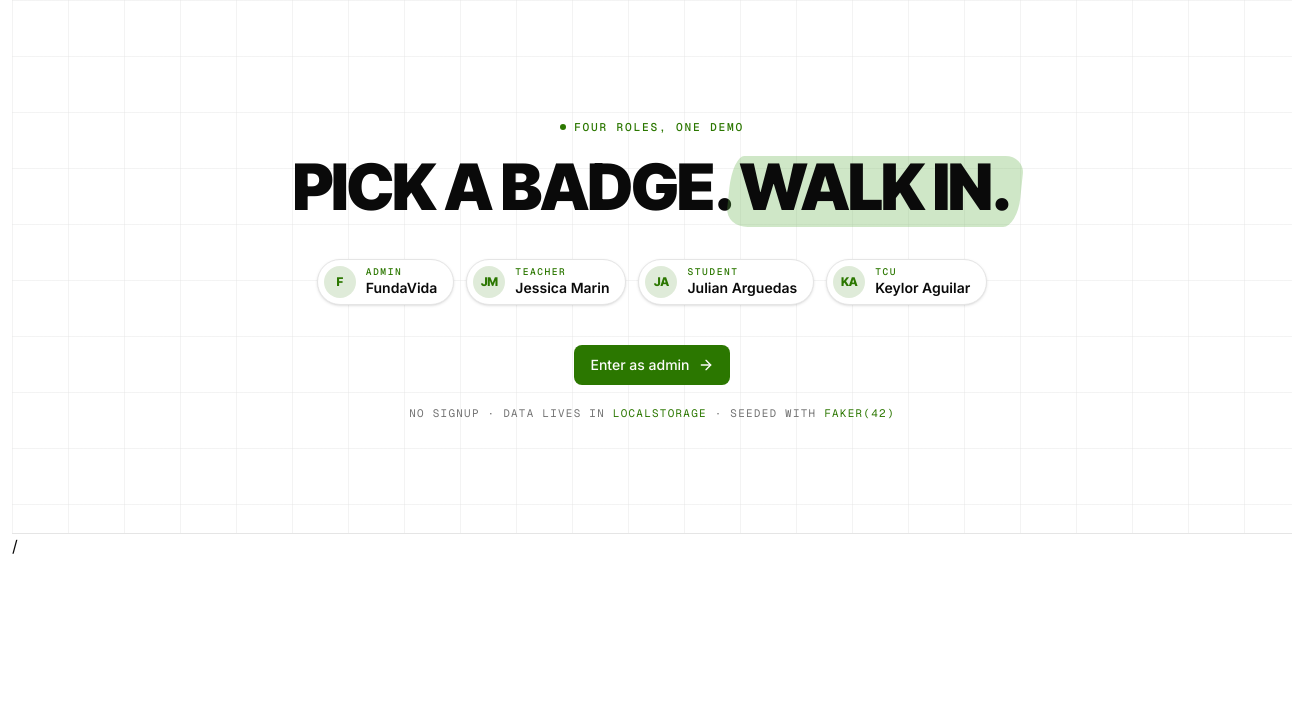
Scenario: FinalCTA › reprises the persona badges and enters as the picked role
Click the button "JA Student Julian Arguedas".
click(726, 282)  # box [638,259,814,305]
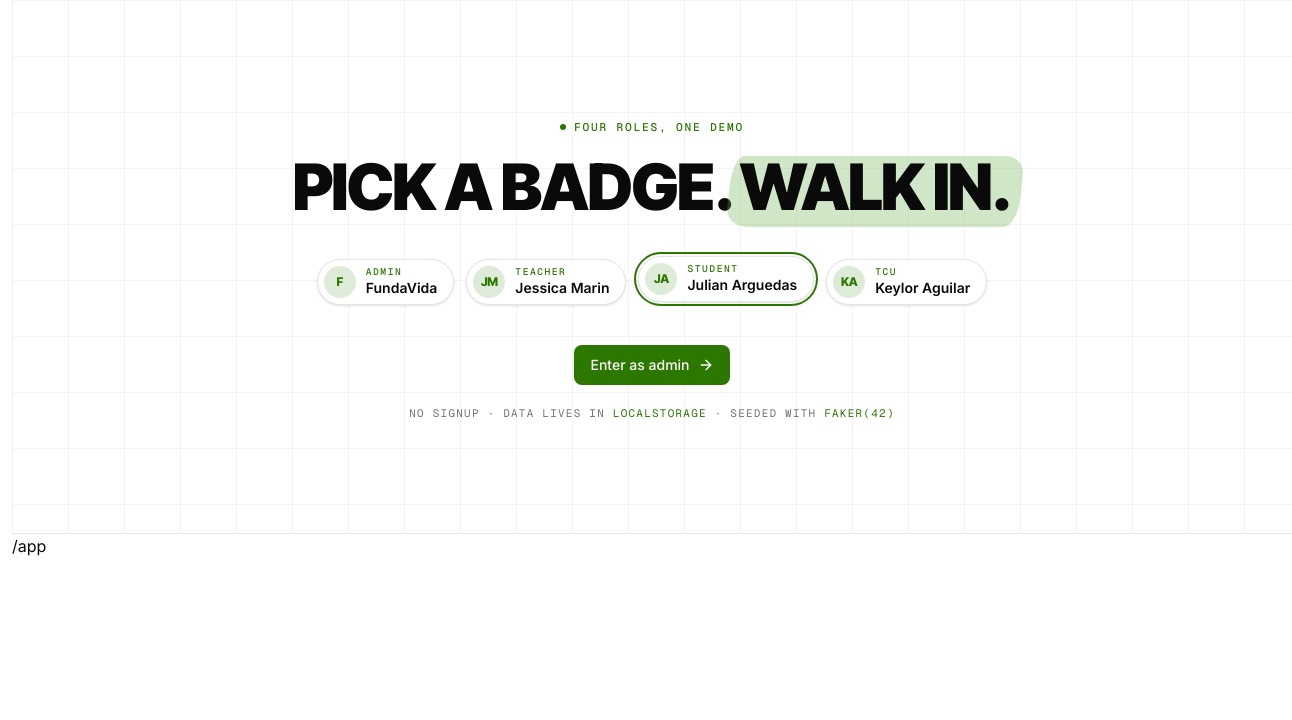
Expected: the text with test id "location" reads "/app", [12,536,46,556]
